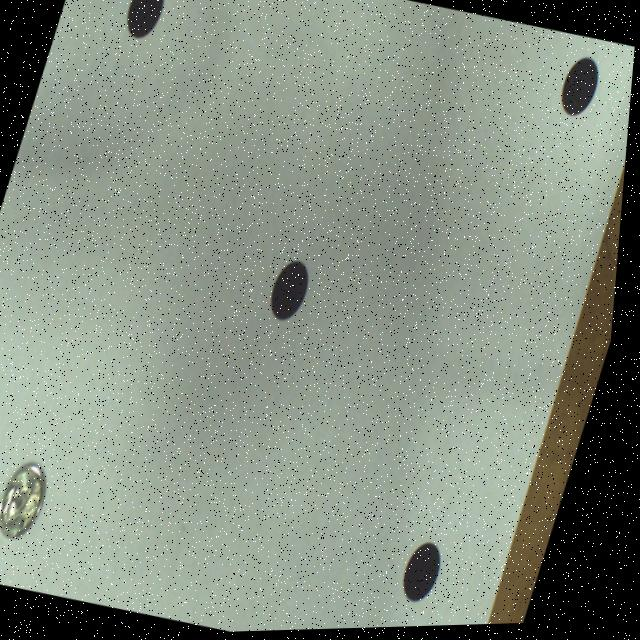head1bath: (6, 463, 54, 539)
space: (275, 263, 313, 322), (413, 545, 450, 605), (563, 61, 599, 119), (127, 0, 164, 40)
